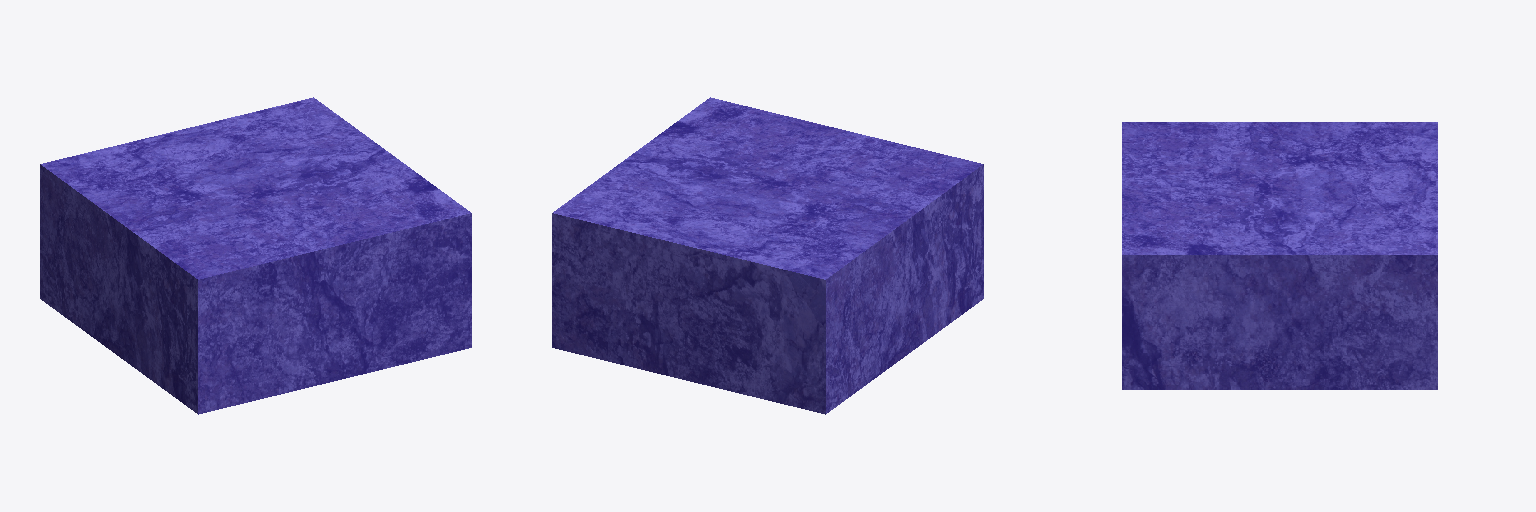
3 renders of one model, left to right at view 1: azimuth 30°, elevation 25°; view 2: azimuth 150°, elevation 25°; view 3: azimuth 270°, elevation 25°, orthographic.
Parts seen in each view (by area): view 1: Plane_Plane.013; view 2: Plane_Plane.013; view 3: Plane_Plane.013.
Boxes of the visible parts, x1,y1,x2,y2 form: Plane_Plane.013: [40, 97, 471, 414]; Plane_Plane.013: [552, 97, 983, 414]; Plane_Plane.013: [1122, 122, 1437, 389].
Size of the model in its own units: 1.14 by 0.536 by 1.14.
1 materials, 1 textured.